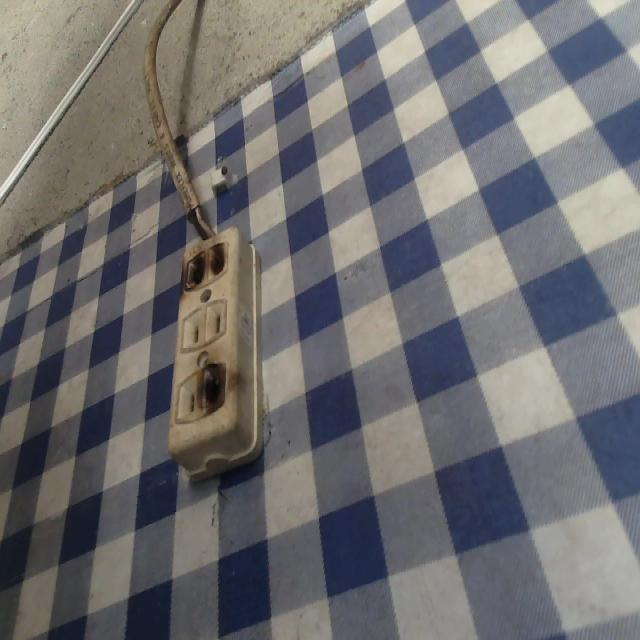-: (174, 236, 233, 291), (194, 356, 242, 419)
